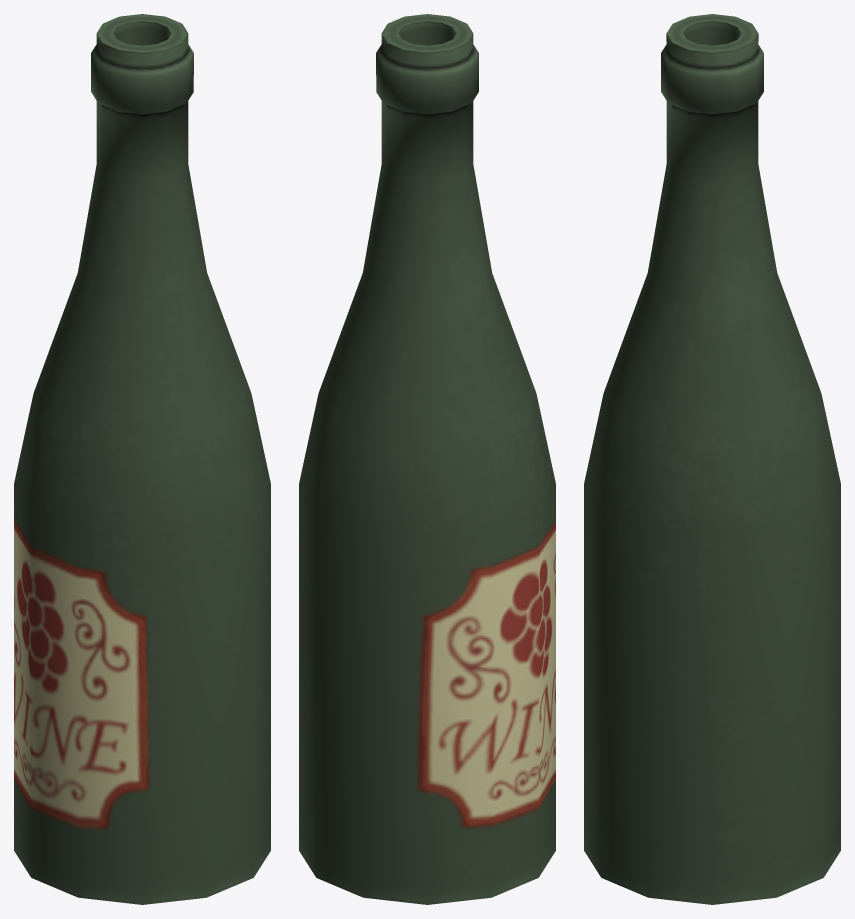
The model's file is LOD0_smallBottle_wLabel.fbx.
3 renders of one model, left to right at view 1: azimuth 30°, elevation 25°; view 2: azimuth 150°, elevation 25°; view 3: azimuth 270°, elevation 25°, orthographic.
Parts seen in each view (by area): view 1: LOD0_smallBottle_wLabel; view 2: LOD0_smallBottle_wLabel; view 3: LOD0_smallBottle_wLabel.
Part boxes in pixels (bbox=[...]): LOD0_smallBottle_wLabel: bbox=[14, 14, 270, 904]; LOD0_smallBottle_wLabel: bbox=[299, 14, 555, 904]; LOD0_smallBottle_wLabel: bbox=[584, 14, 840, 904].
Bounding box in the file's own units: 0.0929 × 0.3261 × 0.0929.
